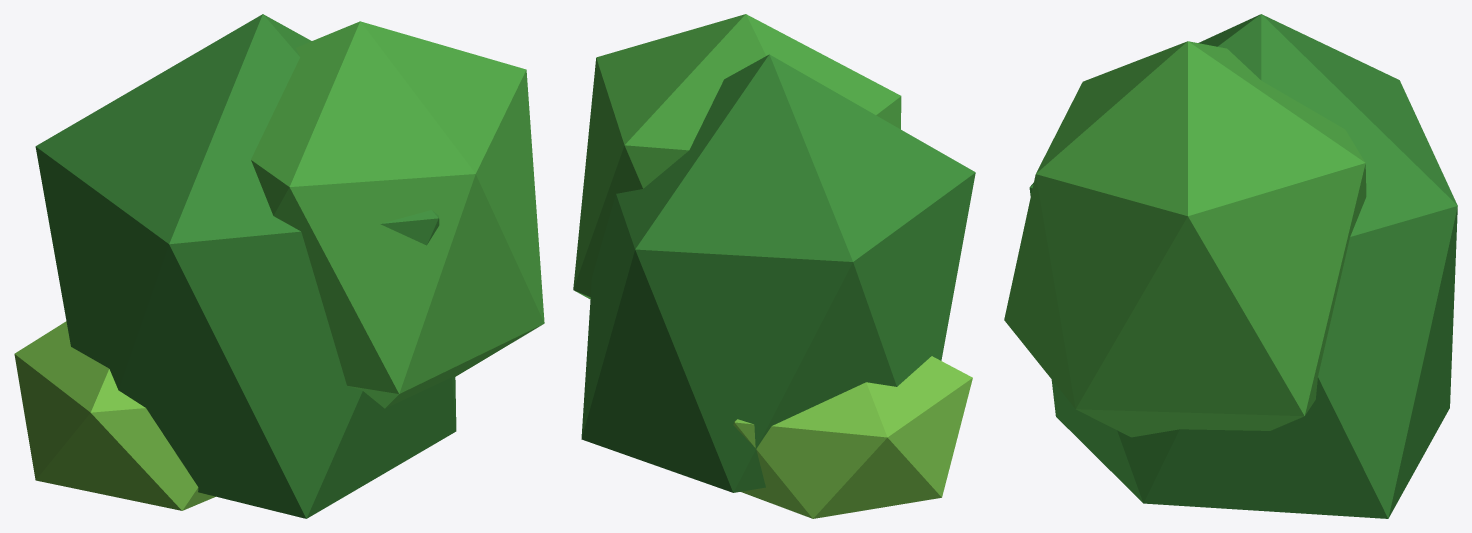
Rendered from Bush_Tall.fbx.
The picture shows the model from 3 angles, left to right: view 1: azimuth 30°, elevation 25°; view 2: azimuth 150°, elevation 25°; view 3: azimuth 270°, elevation 25°; orthographic projection. The views are drawn at different scales.
Visible parts, largest first — view 1: Bush_Tall; view 2: Bush_Tall; view 3: Bush_Tall.
Part boxes in pixels (bbox=[...]): Bush_Tall: bbox=[14, 14, 544, 518]; Bush_Tall: bbox=[573, 14, 975, 518]; Bush_Tall: bbox=[1004, 14, 1457, 518].
Bounding box in the file's own units: 1.42 × 1.41 × 1.24.
